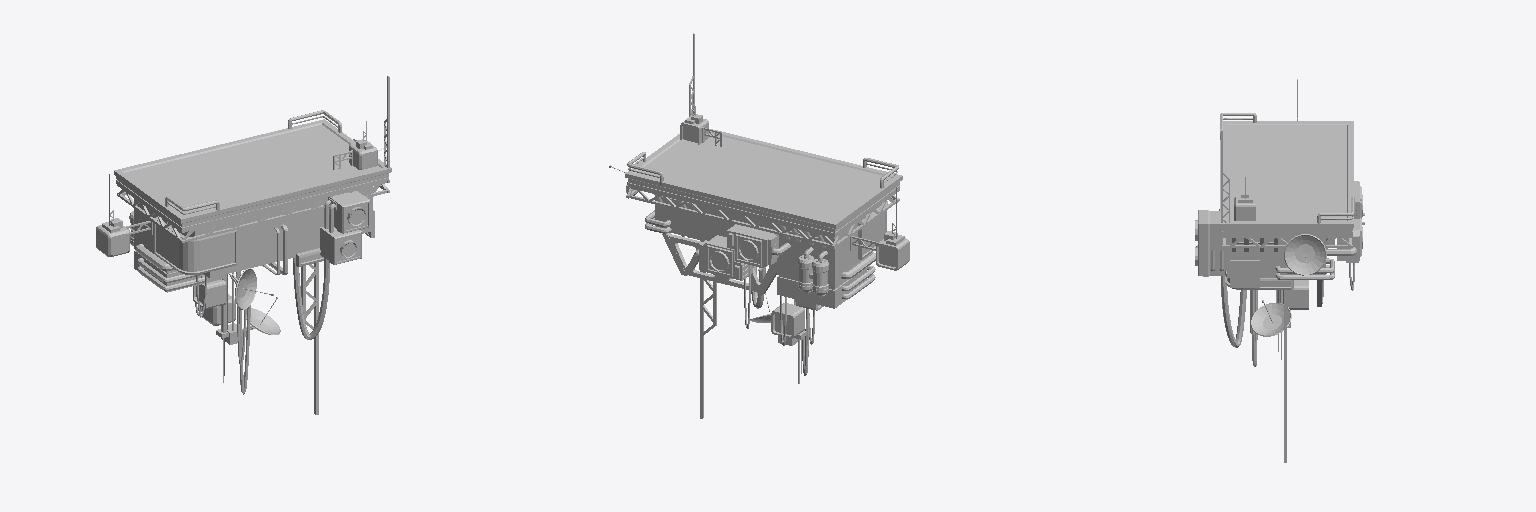
File: Platform_4x2_Cube_002.obj
3 views of the same model, side by side, from view 1: azimuth 30°, elevation 25°; view 2: azimuth 150°, elevation 25°; view 3: azimuth 270°, elevation 25° (orthographic).
Visible parts, largest first — view 1: Platform_4x2_Cube.002; view 2: Platform_4x2_Cube.002; view 3: Platform_4x2_Cube.002.
Boxes of the visible parts, x1,y1,x2,y2 form: Platform_4x2_Cube.002: [96, 76, 391, 414]; Platform_4x2_Cube.002: [609, 33, 909, 418]; Platform_4x2_Cube.002: [1195, 79, 1364, 462].
Size of the model in its own units: 5.32 by 6.16 by 2.71.